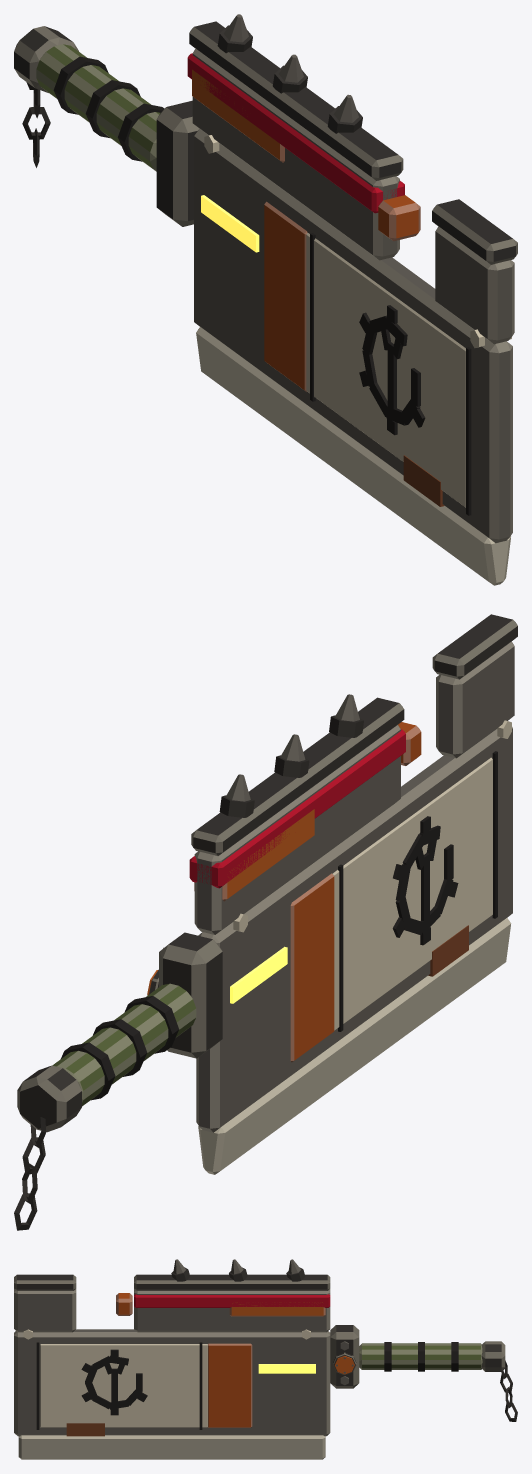
The model's file is w_brute_cleaver.glb.
3 renders of one model, top to bottom at view 1: azimuth 30°, elevation 25°; view 2: azimuth 150°, elevation 25°; view 3: azimuth 270°, elevation 25°, orthographic. The views are drawn at different scales.
Visible parts, largest first — view 1: w_brute_cleaver; view 2: w_brute_cleaver; view 3: w_brute_cleaver.
Boxes of the visible parts, <box> form: w_brute_cleaver: <box>14,14,517,585</box>; w_brute_cleaver: <box>14,614,517,1230</box>; w_brute_cleaver: <box>14,1259,517,1459</box>.
Bounding box in the file's own units: 0.0766 × 0.4582 × 1.05.
